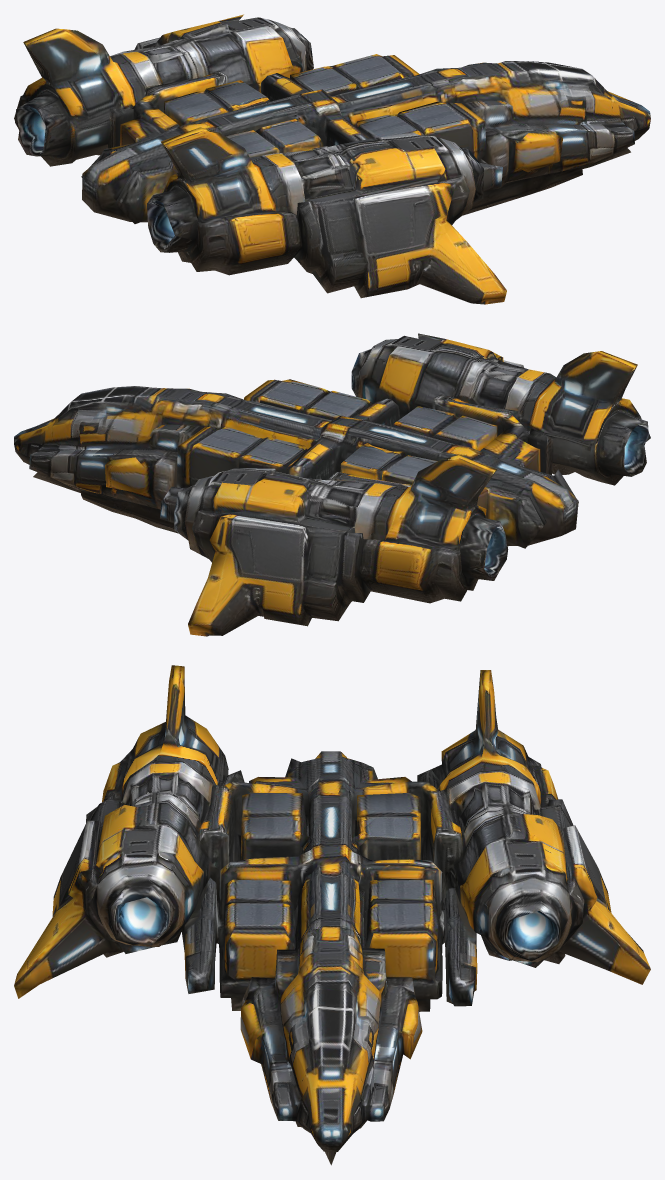
The model's file is courier.glb.
3 views of the same model, one above another, from view 1: azimuth 30°, elevation 25°; view 2: azimuth 150°, elevation 25°; view 3: azimuth 270°, elevation 25° (orthographic). The views are drawn at different scales.
Visible parts, largest first — view 1: tripo_node_c7241928-3764-427c-b119-d18a6a233aed; view 2: tripo_node_c7241928-3764-427c-b119-d18a6a233aed; view 3: tripo_node_c7241928-3764-427c-b119-d18a6a233aed.
Boxes of the visible parts, left/top/right/bottom form: tripo_node_c7241928-3764-427c-b119-d18a6a233aed: left=14, top=14, right=650, bottom=304; tripo_node_c7241928-3764-427c-b119-d18a6a233aed: left=14, top=333, right=650, bottom=636; tripo_node_c7241928-3764-427c-b119-d18a6a233aed: left=14, top=665, right=650, bottom=1165.
Size of the model in its own units: 0.9796 by 0.3468 by 0.8781.
Materials: 1 (1 with a texture image).
